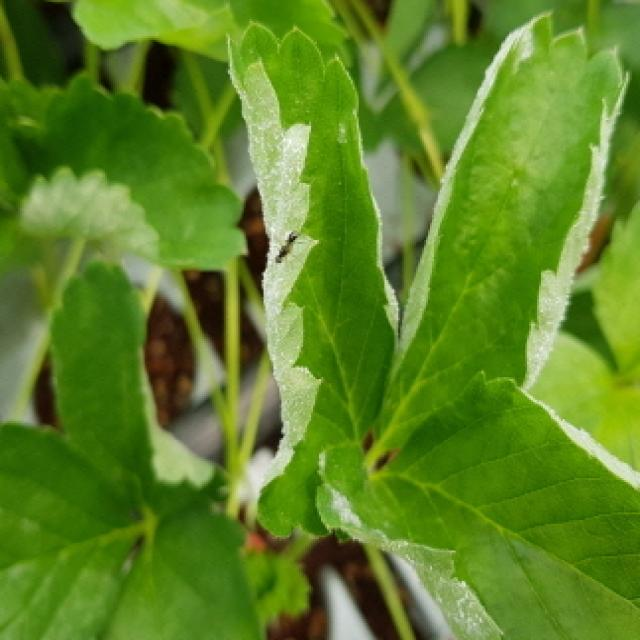Powdery Mildew Leaf: (370, 9, 631, 455), (226, 16, 400, 544), (314, 370, 640, 640), (14, 71, 249, 272)
